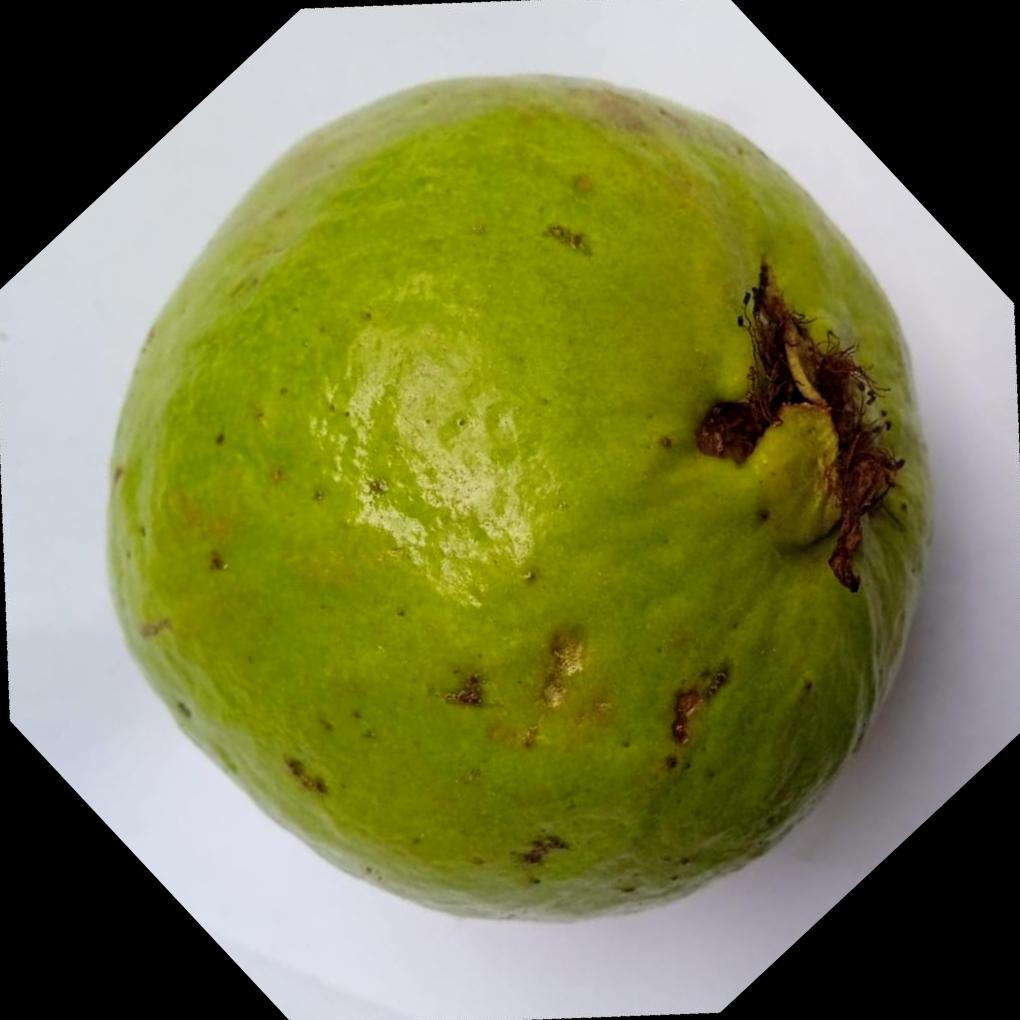FreshGuava: (99, 74, 931, 925)
